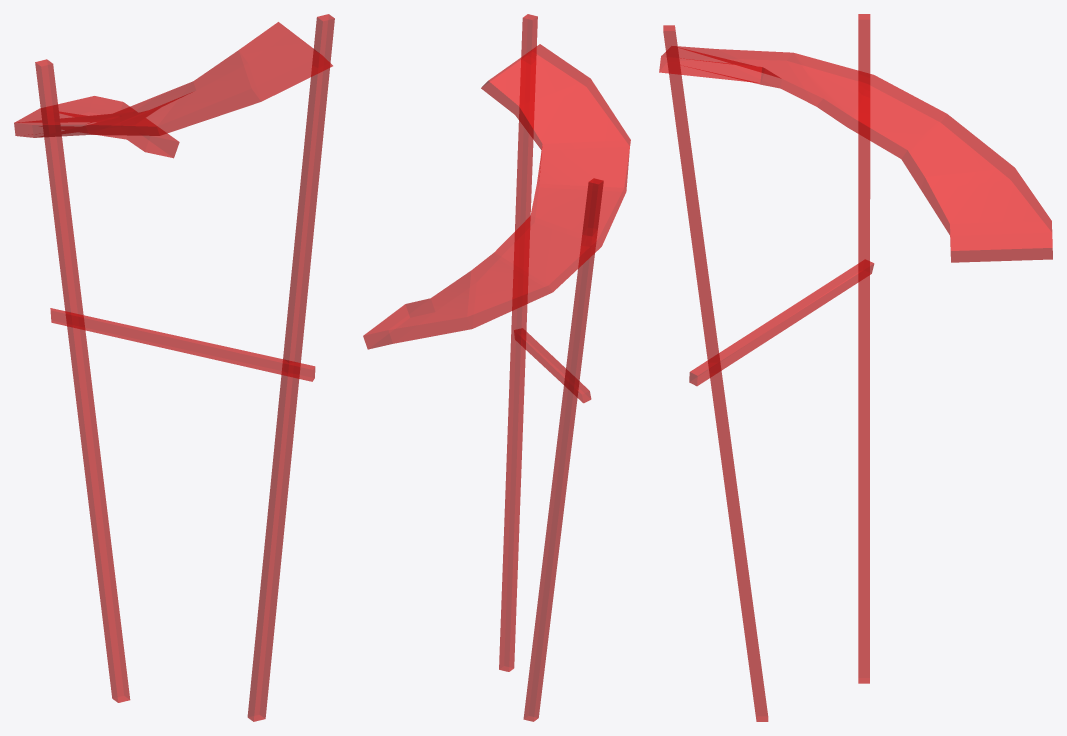
File: SM_Bld_Rickety_Dock_Stairs_Curved_01_Collision.fbx
3 renders of one model, left to right at view 1: azimuth 30°, elevation 25°; view 2: azimuth 150°, elevation 25°; view 3: azimuth 270°, elevation 25°, orthographic. The views are drawn at different scales.
Visible parts, largest first — view 1: SM_Bld_Rickety_Dock_Stairs_Curved_01_Collision; view 2: SM_Bld_Rickety_Dock_Stairs_Curved_01_Collision; view 3: SM_Bld_Rickety_Dock_Stairs_Curved_01_Collision.
Boxes of the visible parts, left/top/right/bottom form: SM_Bld_Rickety_Dock_Stairs_Curved_01_Collision: left=14, top=14, right=334, bottom=721; SM_Bld_Rickety_Dock_Stairs_Curved_01_Collision: left=363, top=14, right=630, bottom=721; SM_Bld_Rickety_Dock_Stairs_Curved_01_Collision: left=659, top=14, right=1052, bottom=721.
Size of the model in its own units: 298 by 1045 by 533.
